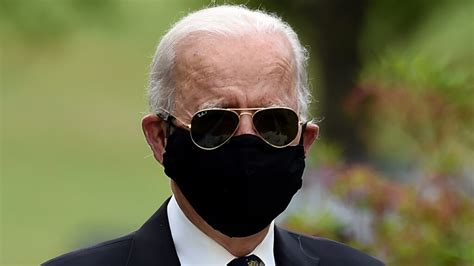sem_capacete: (140, 5, 318, 236)
